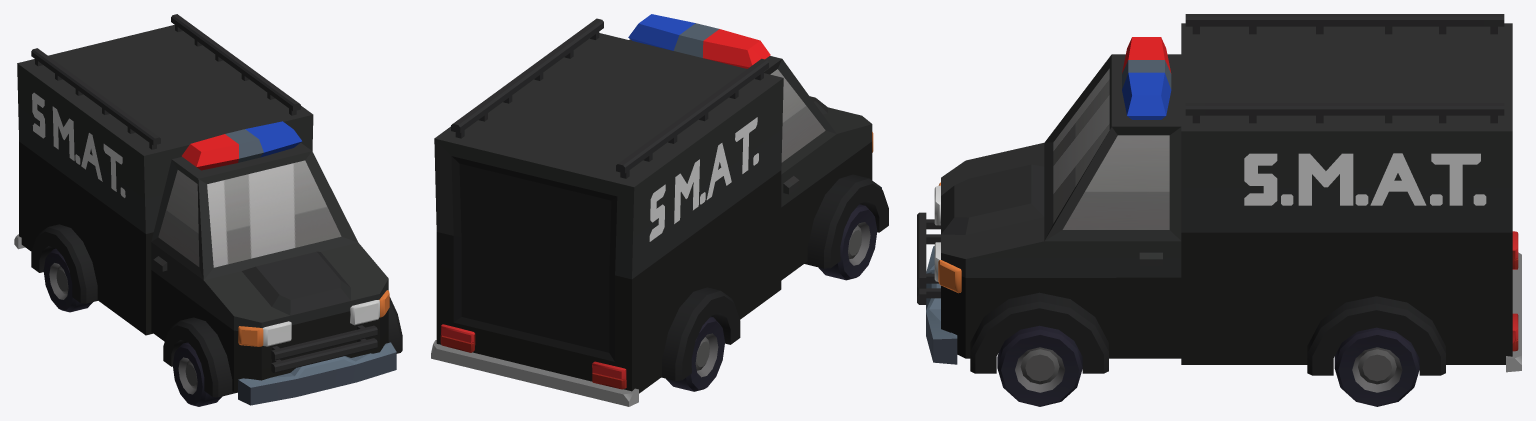
File: SMAT.glb
3 renders of one model, left to right at view 1: azimuth 30°, elevation 25°; view 2: azimuth 150°, elevation 25°; view 3: azimuth 270°, elevation 25°, orthographic. The views are drawn at different scales.
Parts seen in each view (by area): view 1: SMATCar, FR, BR; view 2: SMATCar, FR, BR; view 3: SMATCar, FL, BL.
Part boxes in pixels (box(x1,y1,x2,y2)): SMATCar: box(14, 14, 402, 405); FR: box(172, 342, 222, 406); BR: box(43, 248, 92, 312); SMATCar: box(431, 14, 888, 406); FR: box(818, 204, 877, 280); BR: box(666, 316, 724, 391); SMATCar: box(917, 14, 1521, 375); FL: box(997, 325, 1082, 406); BL: box(1334, 327, 1419, 406).
Bounding box in the file's own units: 1.23 × 1.32 × 2.51.
4 materials, 4 textured.
